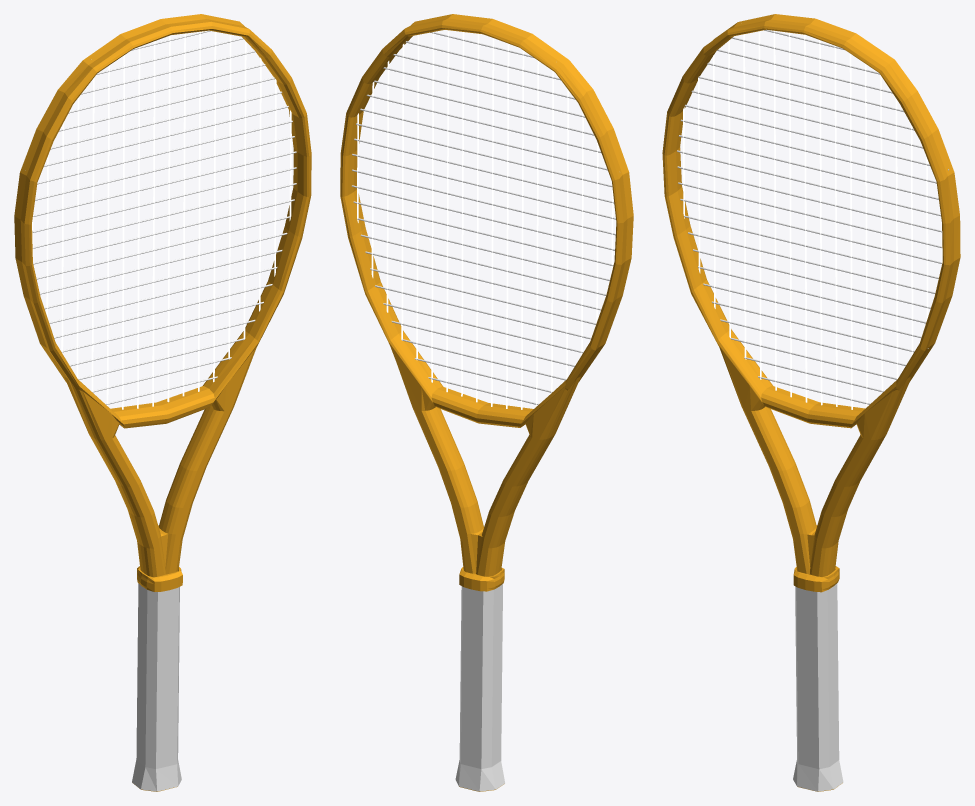
Rendered from racket_new.glb.
3 views of the same model, side by side, from view 1: azimuth 30°, elevation 25°; view 2: azimuth 150°, elevation 25°; view 3: azimuth 330°, elevation 25° (orthographic).
Parts seen in each view (by area): view 1: Cylinder_12; view 2: Cylinder_12; view 3: Cylinder_12.
Boxes of the visible parts, left/top/right/bottom form: Cylinder_12: left=14, top=14, right=311, bottom=791; Cylinder_12: left=340, top=14, right=633, bottom=791; Cylinder_12: left=662, top=14, right=960, bottom=791.
Size of the model in its own units: 130 by 330 by 20.84.
